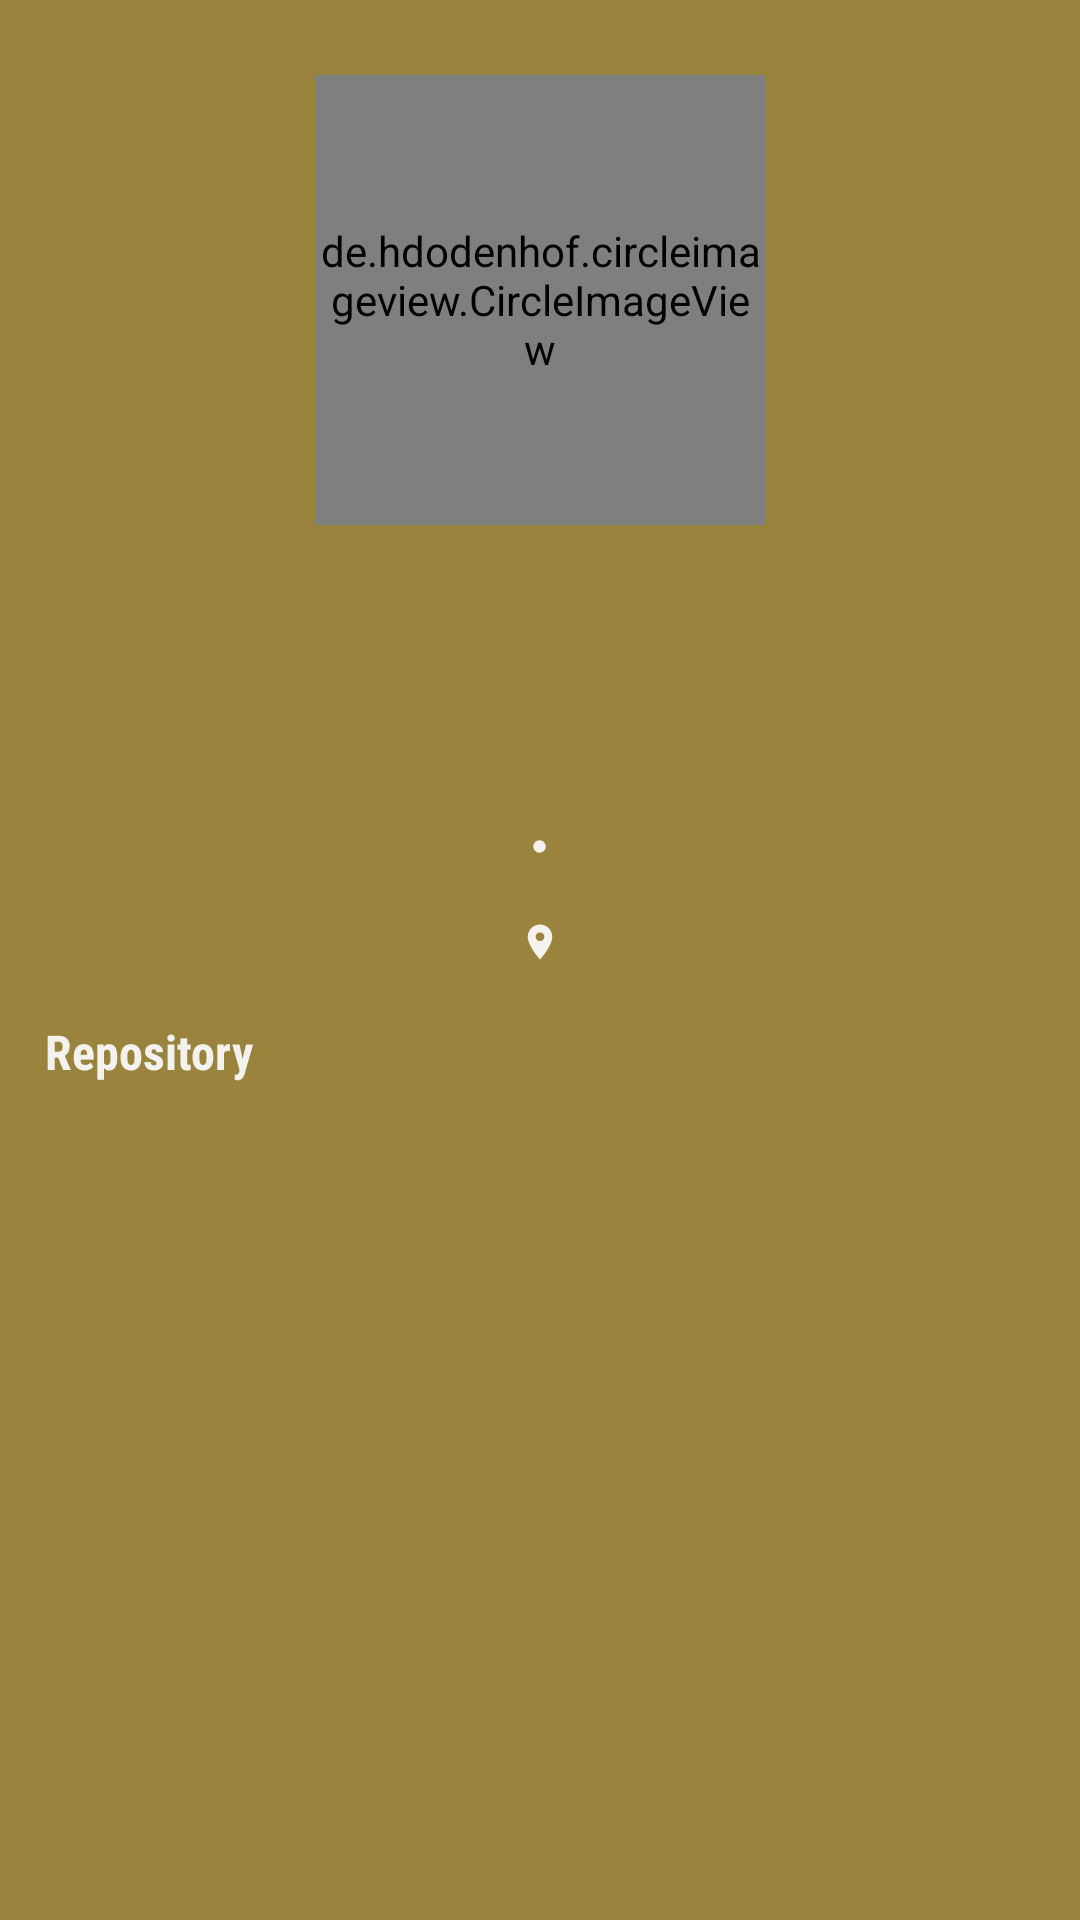

Icon bounding boxes for this 1080 x 1920 phone screenshot, format detection(x1, y1, x2, y2):
location on: detection(527, 924, 553, 959)
